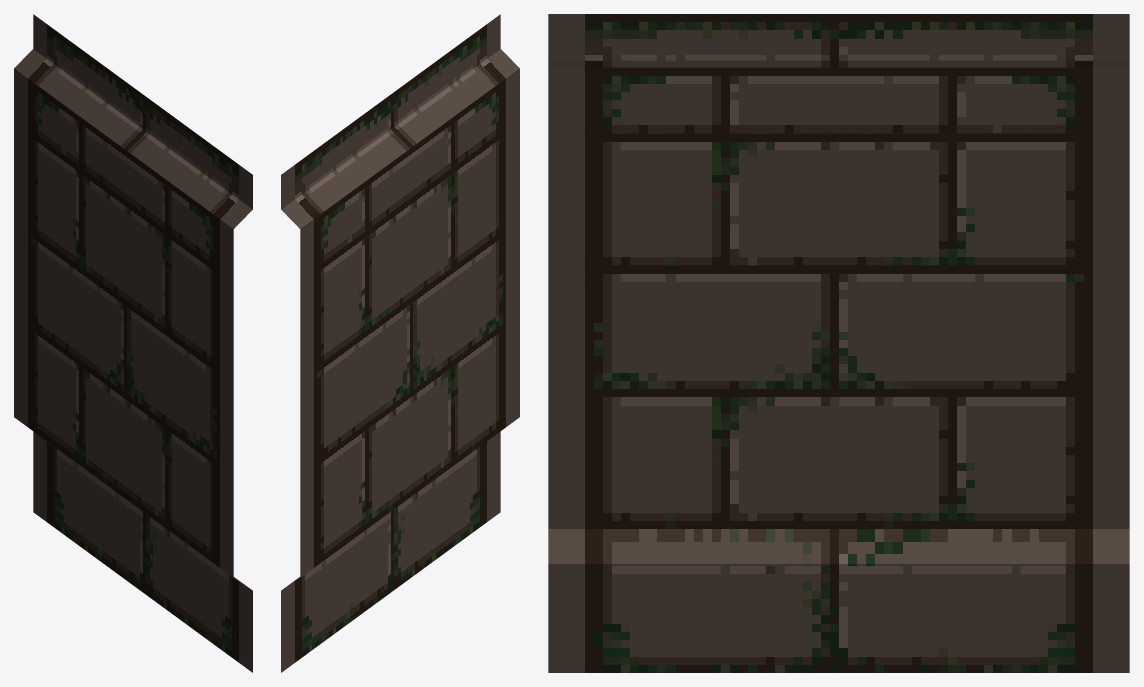
Rendered from TallWall.fbx.
3 views of the same model, side by side, from view 1: azimuth 30°, elevation 25°; view 2: azimuth 150°, elevation 25°; view 3: azimuth 270°, elevation 25° (orthographic). The views are drawn at different scales.
Visible parts, largest first — view 1: WallLowPoly.001; view 2: WallLowPoly.001; view 3: WallLowPoly.001.
Part boxes in pixels (left/top/right/bottom): WallLowPoly.001: left=14, top=14, right=252, bottom=672; WallLowPoly.001: left=281, top=14, right=519, bottom=672; WallLowPoly.001: left=548, top=14, right=1129, bottom=672.
Size of the model in its own units: 200 by 5005 by 4000.
Materials: 1 (1 with a texture image).
